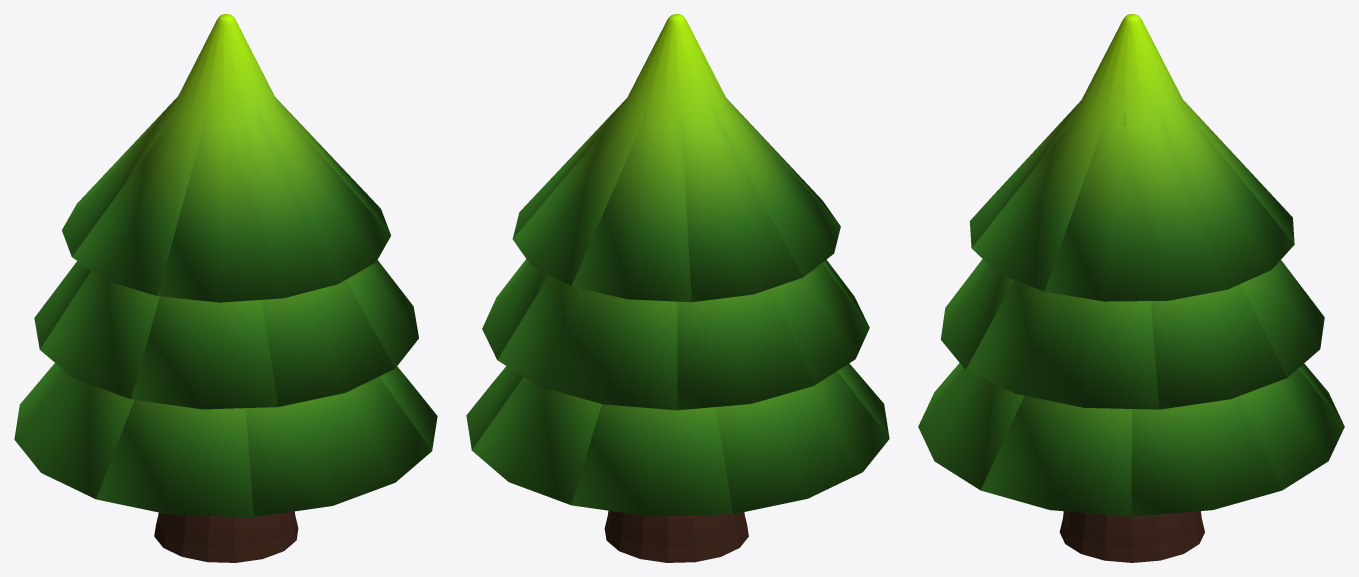
Rendered from Tree.fbx.
3 views of the same model, side by side, from view 1: azimuth 30°, elevation 25°; view 2: azimuth 150°, elevation 25°; view 3: azimuth 270°, elevation 25° (orthographic).
Parts seen in each view (by area): view 1: sheets; view 2: sheets; view 3: sheets.
Part boxes in pixels (x1,y1,x2,y2): sheets: (14, 14, 437, 562); sheets: (466, 14, 889, 562); sheets: (918, 14, 1344, 562).
Size of the model in its own units: 274 by 366 by 274.
